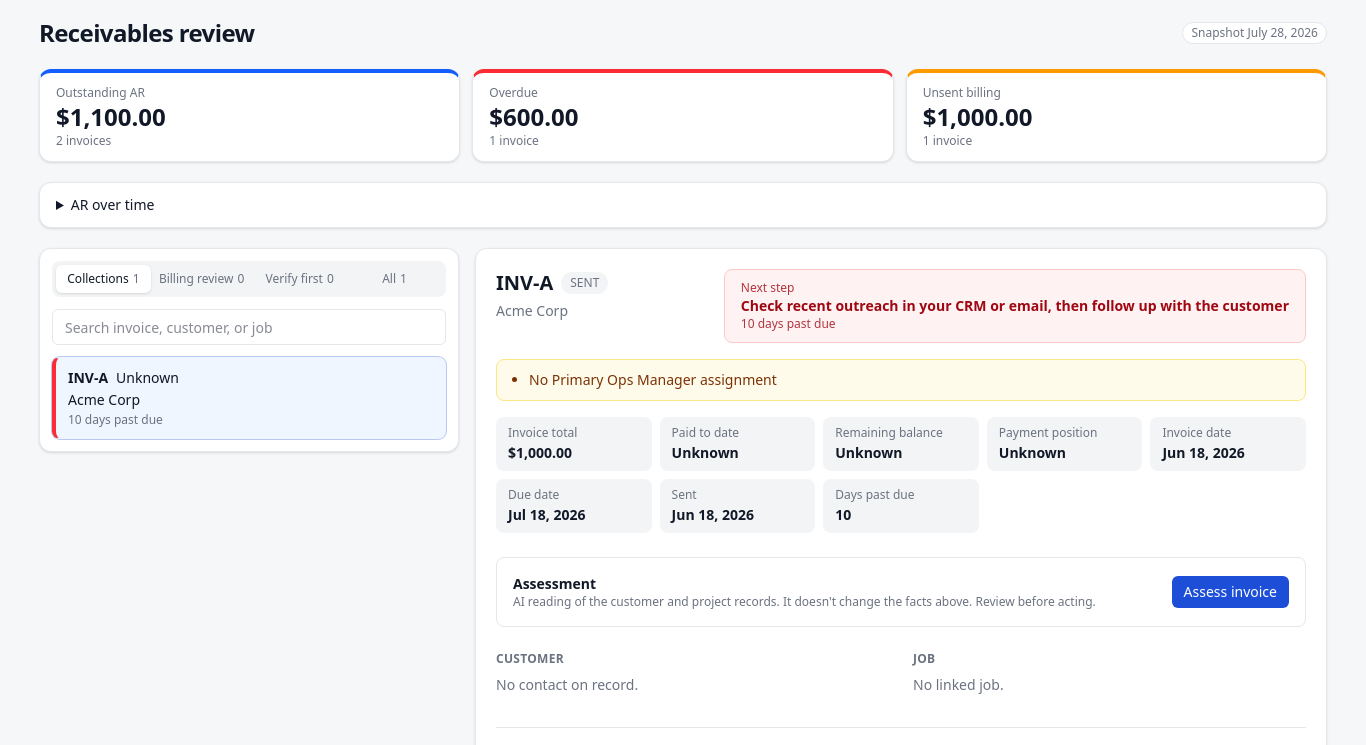
Test: excluded payments and uncertain balances are explained
This screenshot has width=1366, height=745.
Click the button "INV-A Unknown Acme Corp 10 days past due" at coordinates (88, 378), box [52, 357, 446, 439]
(page scrolled)
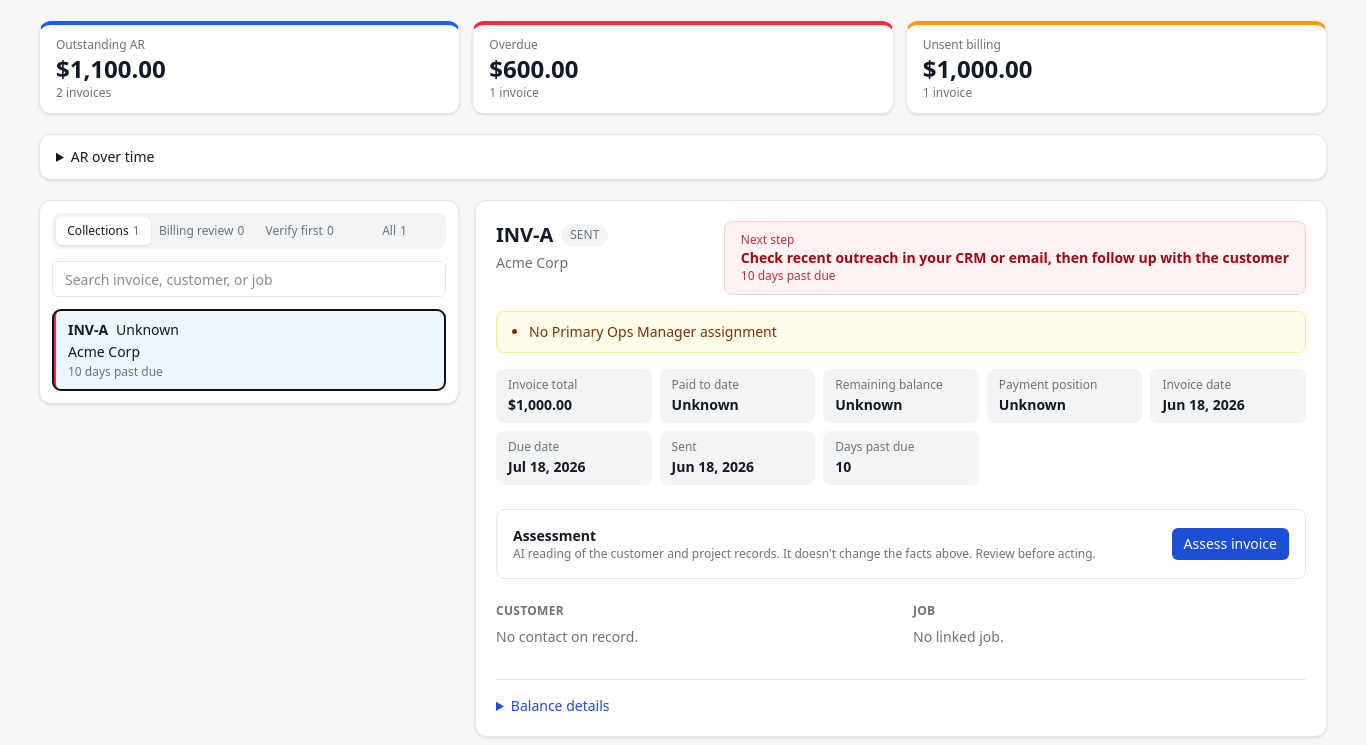
Click the heading "Balance details" at coordinates (560, 706), box [511, 696, 610, 715]
(page scrolled)
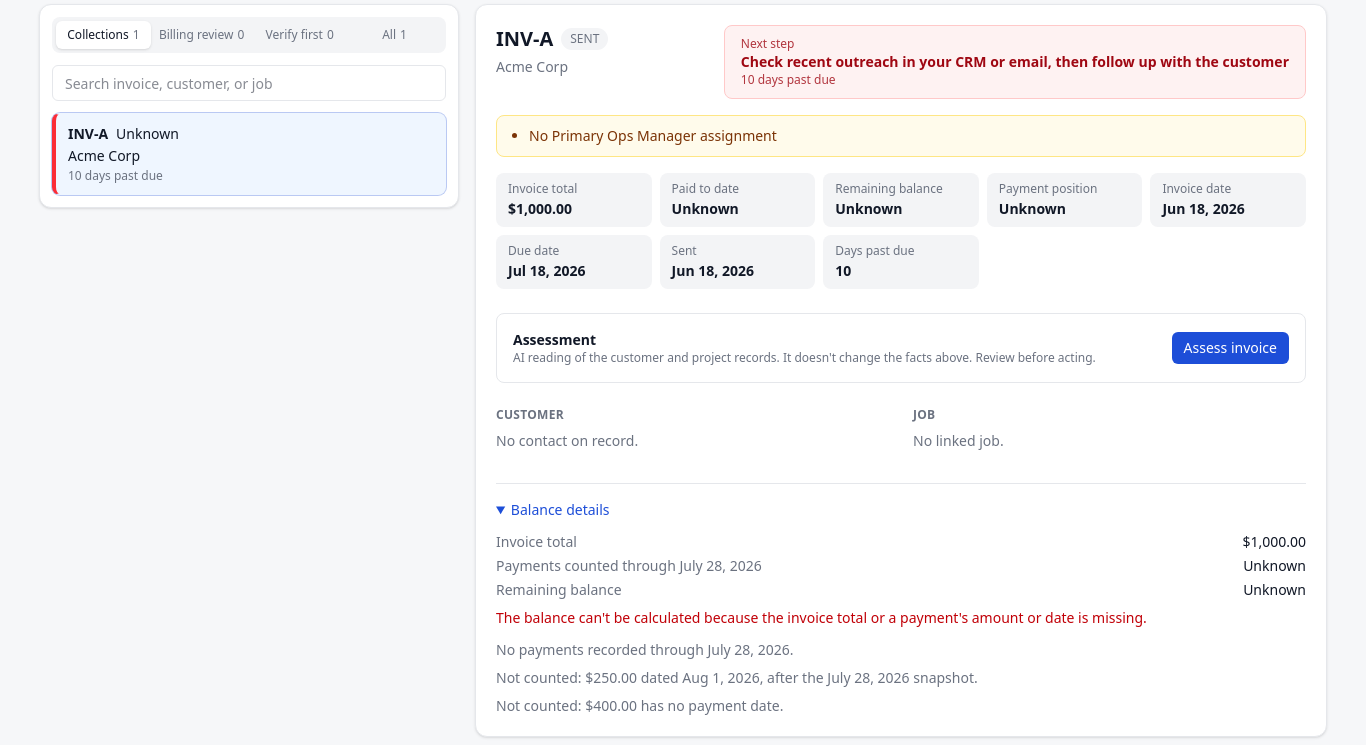
Expected: the text "Not counted: $250.00 dated Aug 1, 2026, after the July 28, 2026 snapshot." is shown, [496, 668, 978, 687]
Expected: the text "Not counted: $400.00 has no payment date." is shown, [496, 696, 783, 715]
Expected: the text "balance can't be calculated" is shown, [496, 608, 1147, 627]
